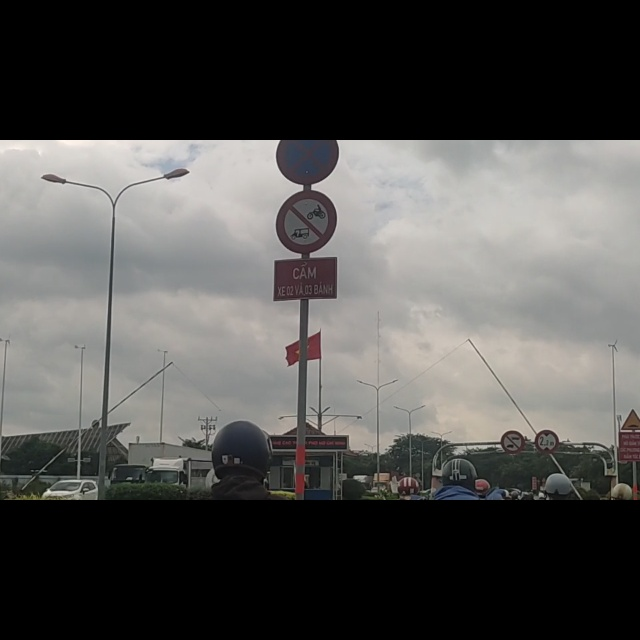bien_nguy_hiem: (277, 90, 337, 201), (275, 1, 342, 81), (534, 514, 560, 559), (502, 517, 525, 558), (620, 479, 640, 518)
